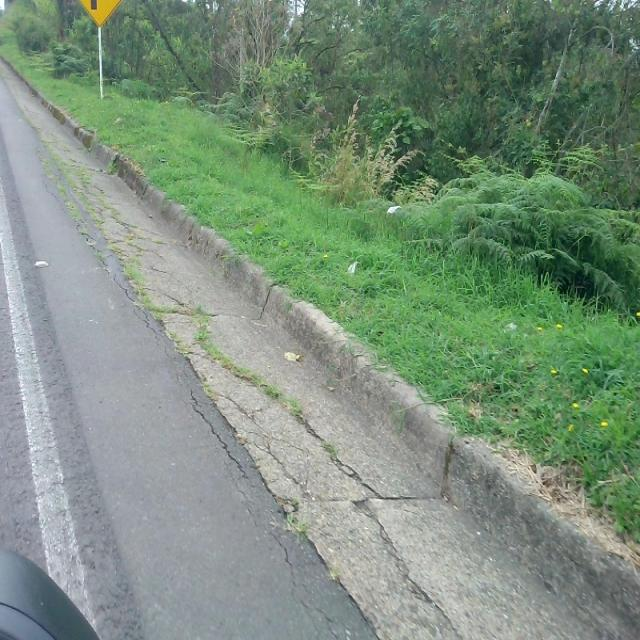DITCH: (1, 53, 638, 638), (1, 56, 638, 638), (1, 65, 638, 638)
